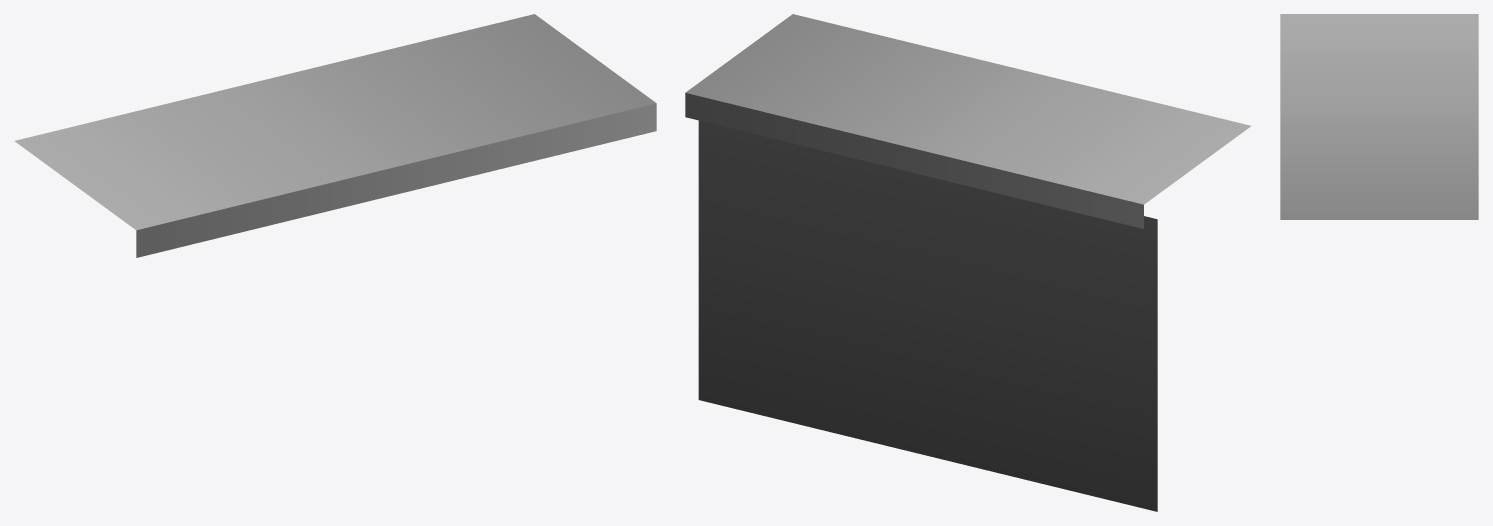
Rendered from Retainning_Wall_1_Side_Middle.glb.
3 renders of one model, left to right at view 1: azimuth 30°, elevation 25°; view 2: azimuth 150°, elevation 25°; view 3: azimuth 270°, elevation 25°, orthographic. The views are drawn at different scales.
Parts seen in each view (by area): view 1: Object_2; view 2: Object_2; view 3: Object_2.
Boxes of the visible parts, x1,y1,x2,y2 form: Object_2: (14, 14, 656, 257); Object_2: (685, 14, 1250, 511); Object_2: (1280, 14, 1478, 219).
Bounding box in the file's own units: 100 × 66.05 × 40.63.
Materials: 1 (1 with a texture image).
